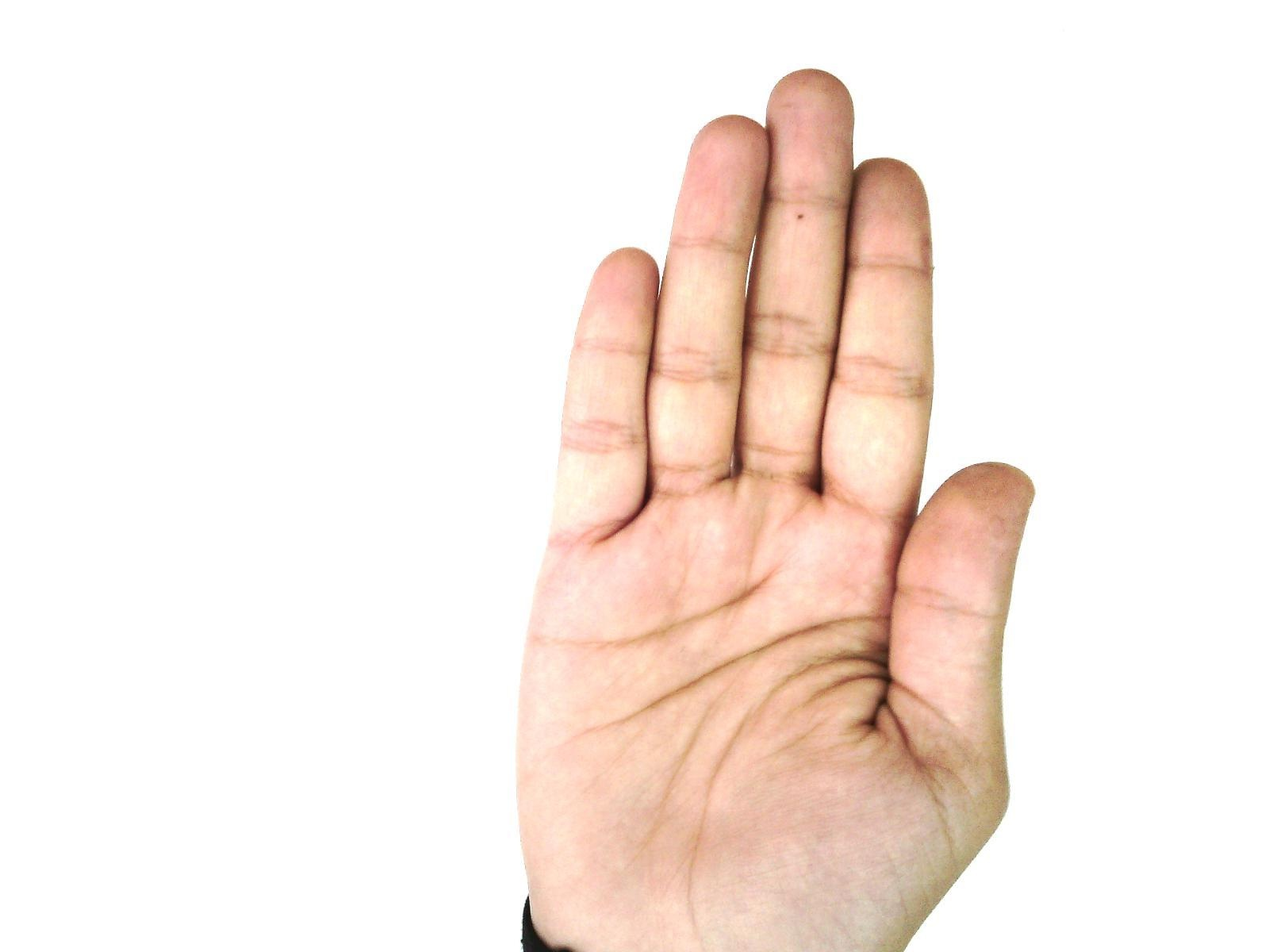open_palm: (511, 67, 1037, 951)
